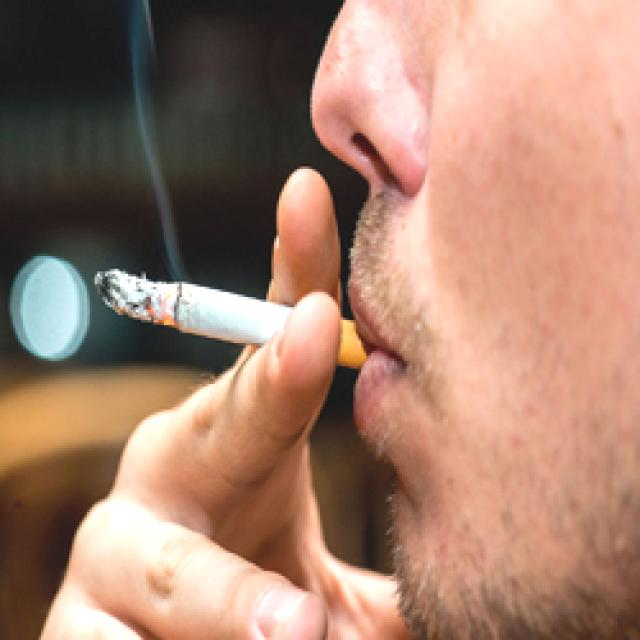Smooking: (96, 262, 382, 395)
